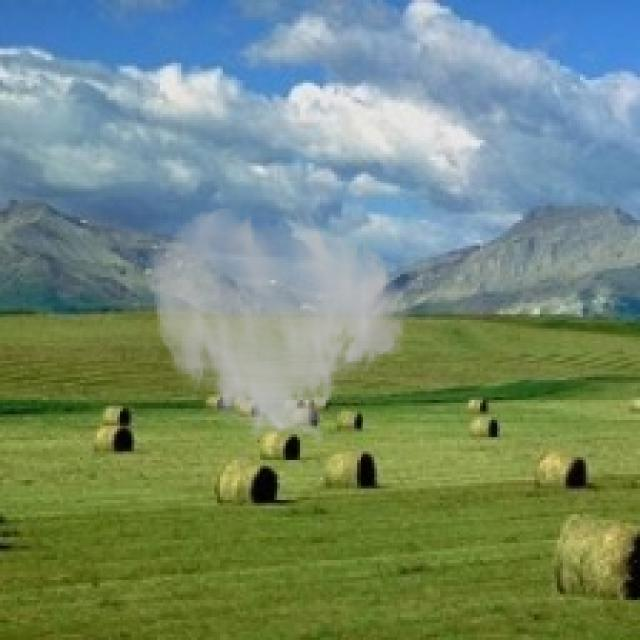Smoke: (142, 206, 408, 448)
